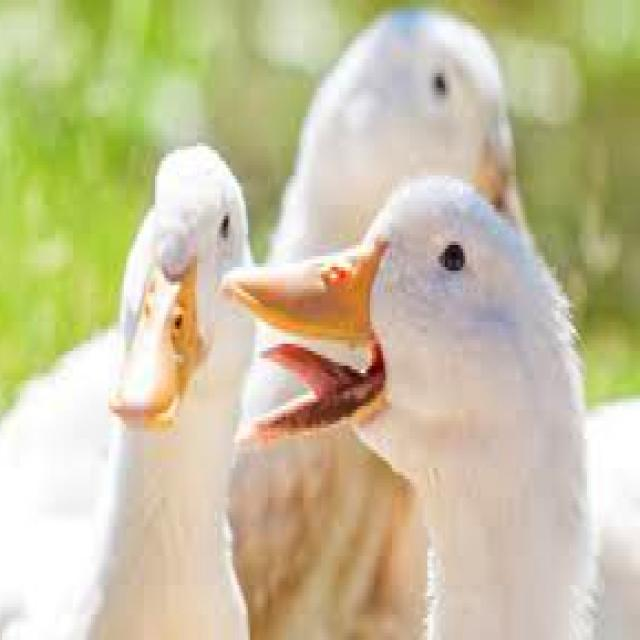duck: (233, 176, 596, 633), (86, 143, 255, 636)
